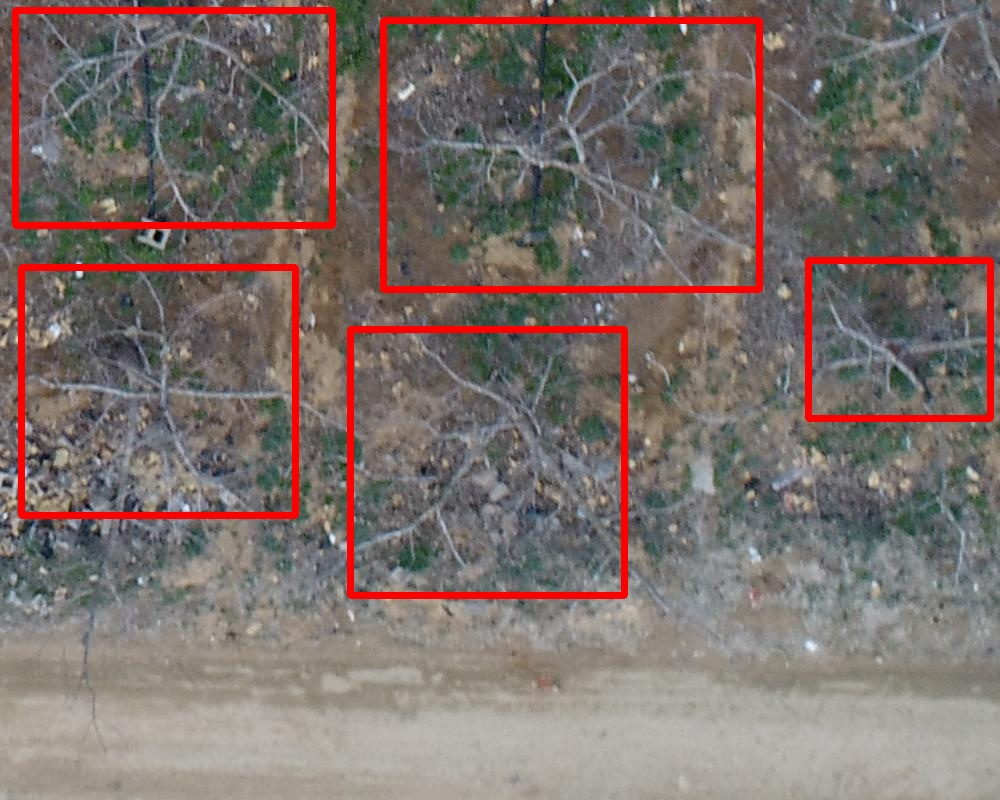apple: (383, 20, 759, 289), (350, 329, 624, 595), (15, 10, 332, 225), (21, 267, 295, 515), (808, 260, 990, 418)
